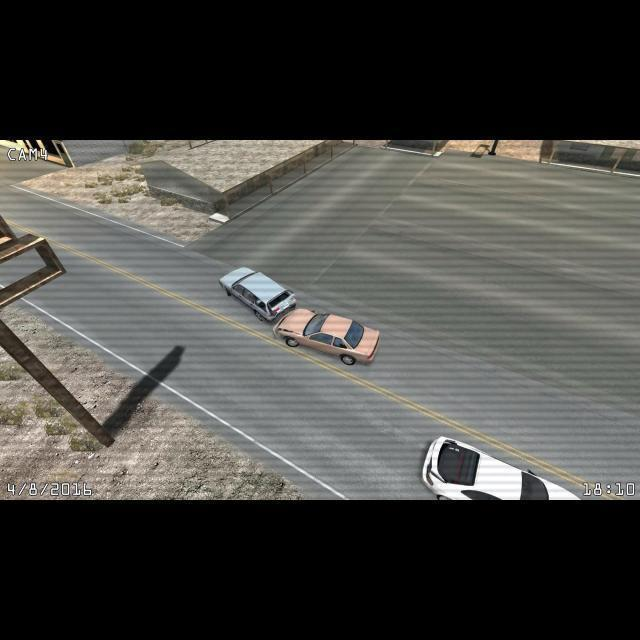multiple_accident: (224, 259, 373, 354)
normal: (423, 426, 577, 509)
